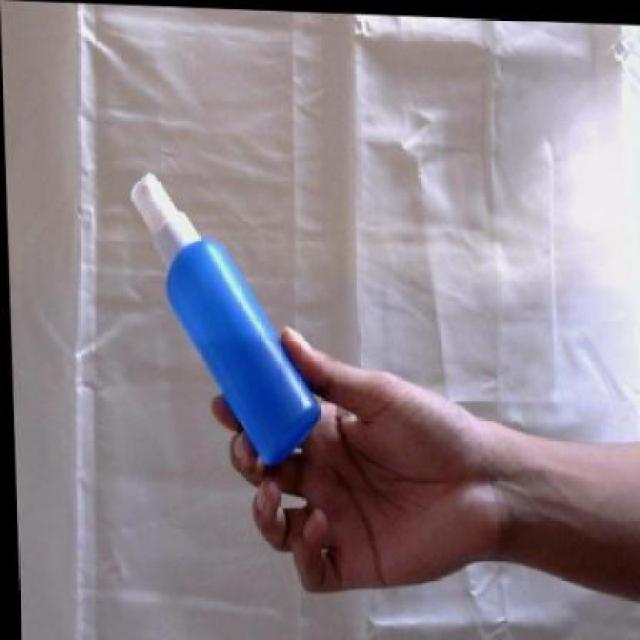Plastic: (128, 169, 323, 473)
